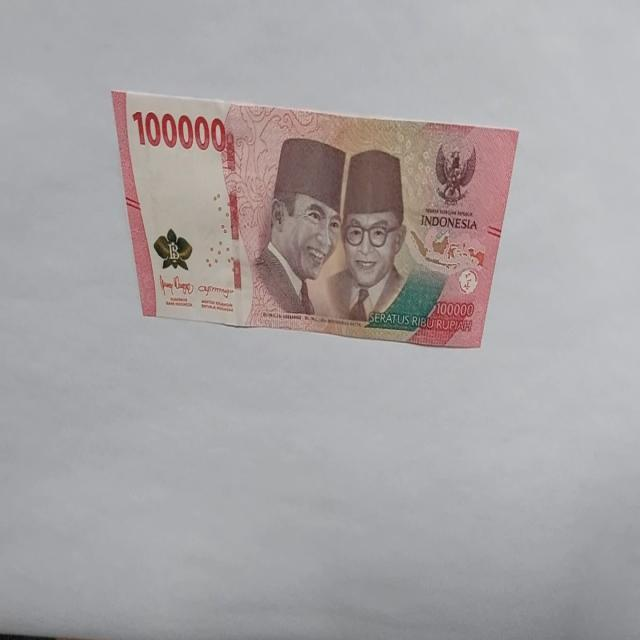seratus ribu rupiah: (110, 87, 520, 349)
